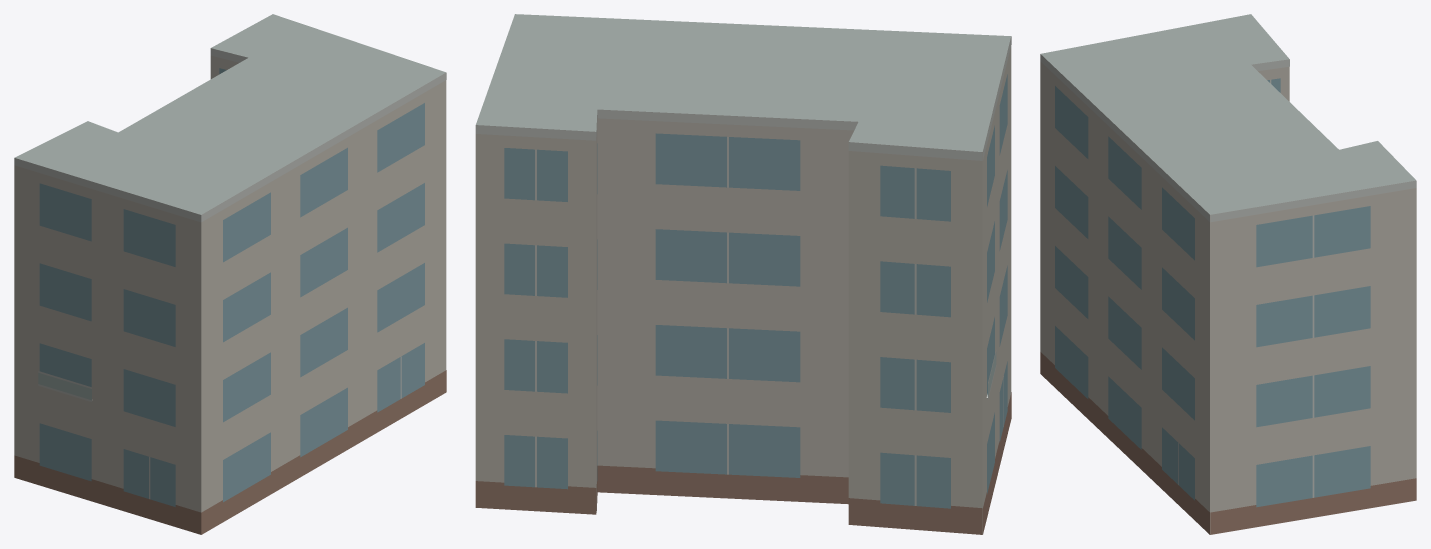
The model's file is survey-upis-32598908.glb.
The picture shows the model from 3 angles, left to right: view 1: azimuth 30°, elevation 25°; view 2: azimuth 150°, elevation 25°; view 3: azimuth 270°, elevation 25°; orthographic projection. The views are drawn at different scales.
Visible parts, largest first — view 1: survey-upis-32598908.tmp; view 2: survey-upis-32598908.tmp; view 3: survey-upis-32598908.tmp.
Part boxes in pixels (box(x1,y1,x2,y2)): survey-upis-32598908.tmp: box(14, 14, 446, 534); survey-upis-32598908.tmp: box(475, 14, 1011, 534); survey-upis-32598908.tmp: box(1040, 14, 1416, 534).
Bounding box in the file's own units: 14.15 × 10.5 × 11.2.
